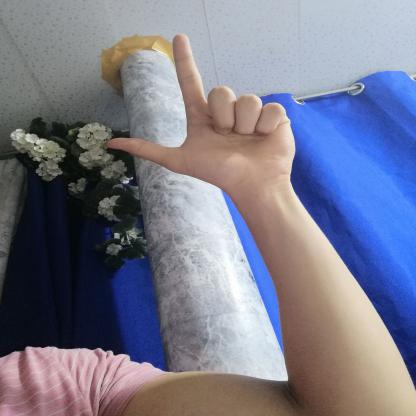LAAM: (88, 24, 313, 198)
